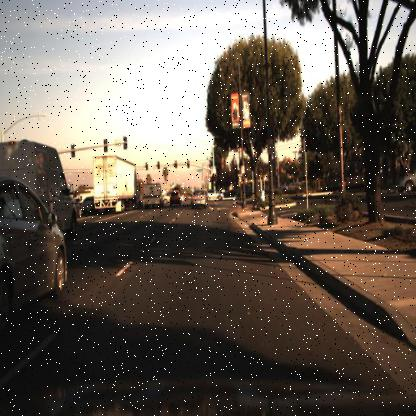car: (0, 172, 70, 307), (0, 134, 70, 198), (139, 180, 164, 212), (277, 178, 304, 196), (202, 183, 225, 204), (187, 186, 207, 209), (80, 194, 94, 218), (168, 186, 182, 209), (160, 190, 172, 206)
trafficLight-Red: (142, 160, 150, 174), (184, 154, 191, 169), (172, 156, 179, 170), (143, 161, 150, 173), (172, 158, 179, 170), (154, 157, 160, 169), (211, 170, 217, 181), (156, 162, 161, 174), (187, 160, 192, 172)
truck: (90, 149, 144, 220)
